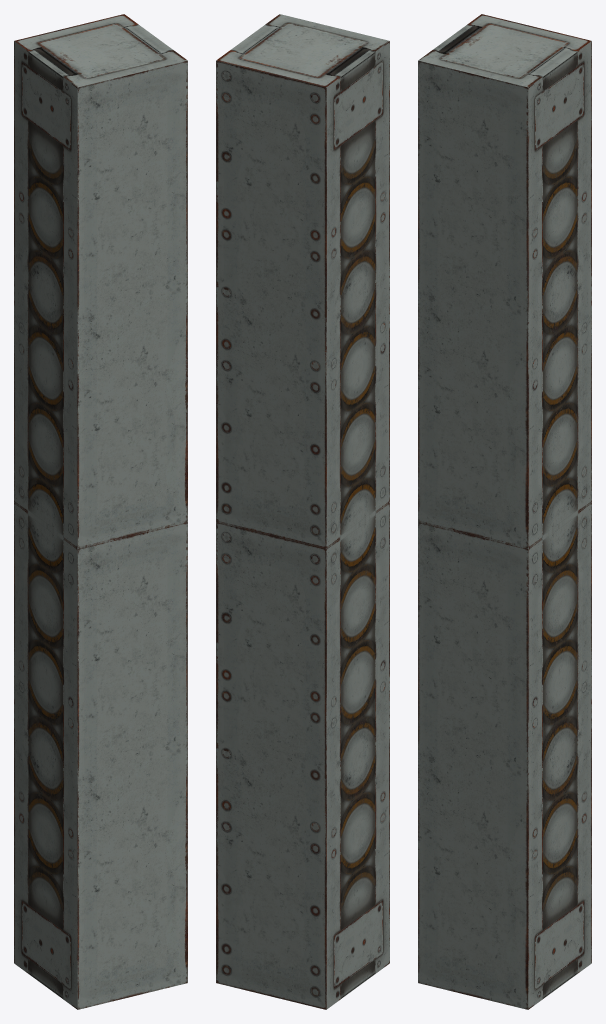
Rendered from SM_PillarPaint8m.FBX.
3 views of the same model, side by side, from view 1: azimuth 30°, elevation 25°; view 2: azimuth 150°, elevation 25°; view 3: azimuth 330°, elevation 25° (orthographic).
Visible parts, largest first — view 1: SM_PillarPaint8m; view 2: SM_PillarPaint8m; view 3: SM_PillarPaint8m.
Part boxes in pixels (x1,y1,x2,y2): SM_PillarPaint8m: [14, 14, 187, 1009]; SM_PillarPaint8m: [216, 14, 389, 1009]; SM_PillarPaint8m: [418, 14, 591, 1009].
Size of the model in its own units: 100 by 100 by 800.
